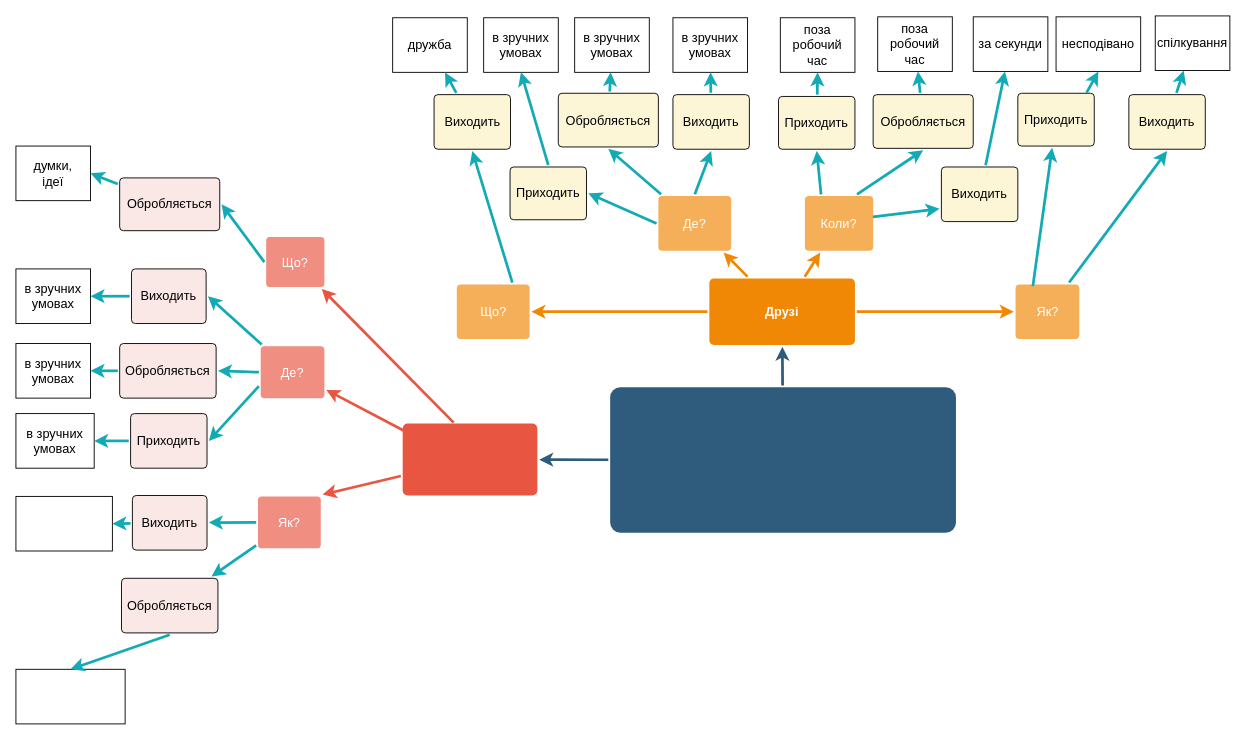
The diagram is 1246 pixels wide and 740 high, and some of its shapes have lost their labels. The centre of each missing label's shape, as x and y in pixels:
Аналоговий/ "живий" звук: point 63,523
Зацікавленість музикою: point 469,459
Людський слух: point 70,696
Потреба у форумі для друзів, зацікавлених музикою: point 783,459
